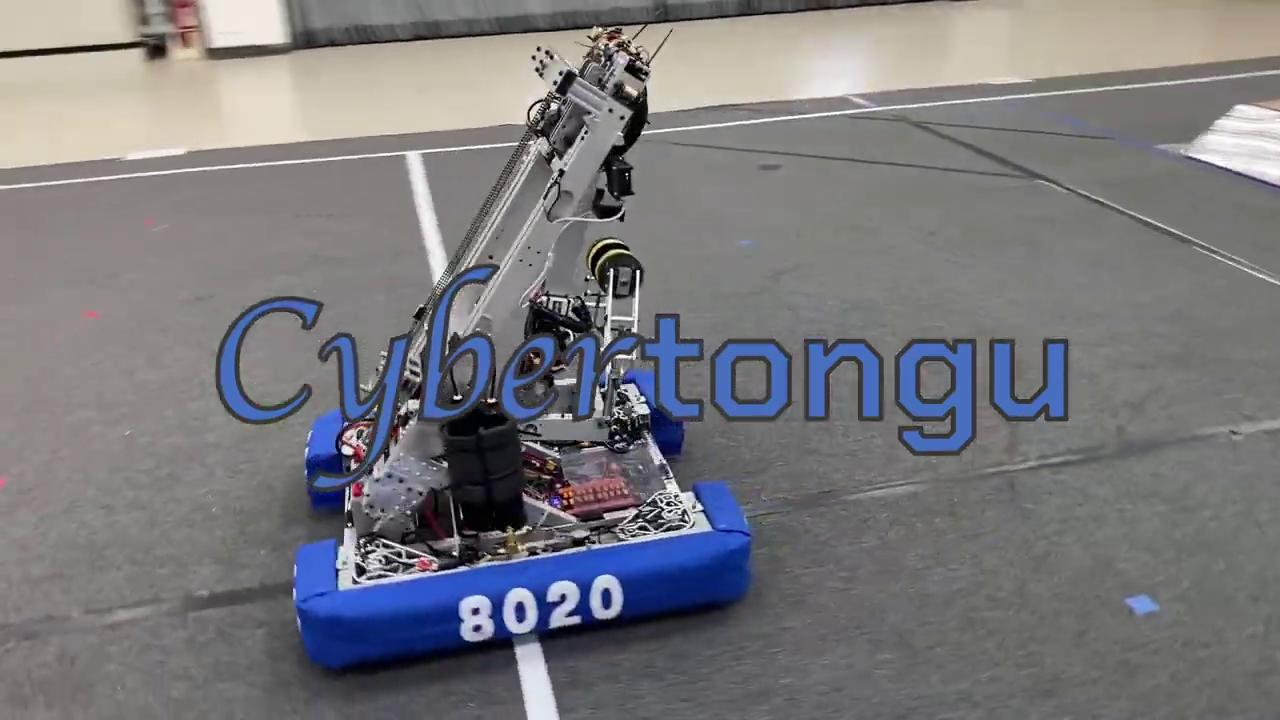robot: (292, 20, 750, 669)
